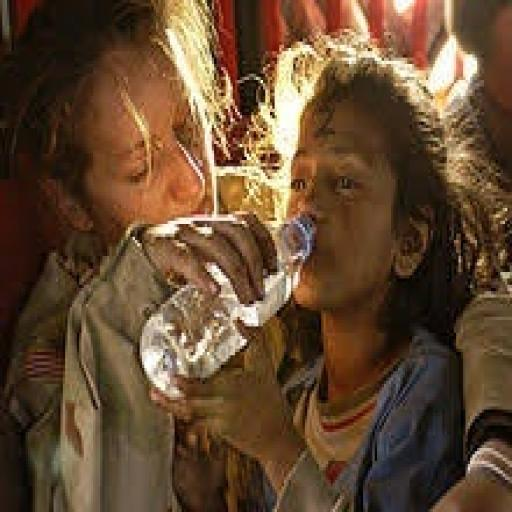drinking: (135, 208, 316, 400)
